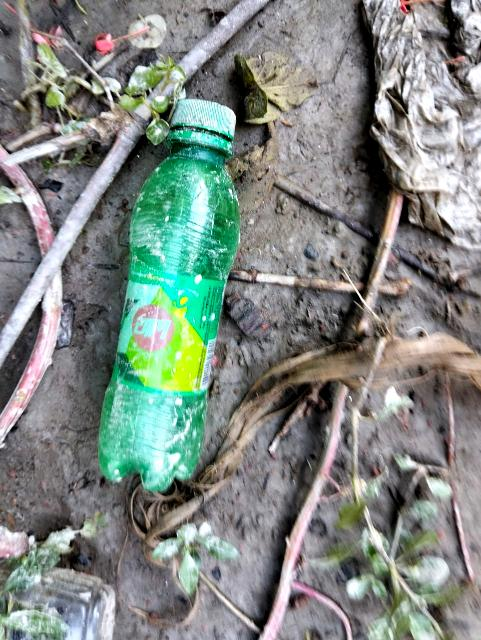bottle: (95, 121, 258, 497)
